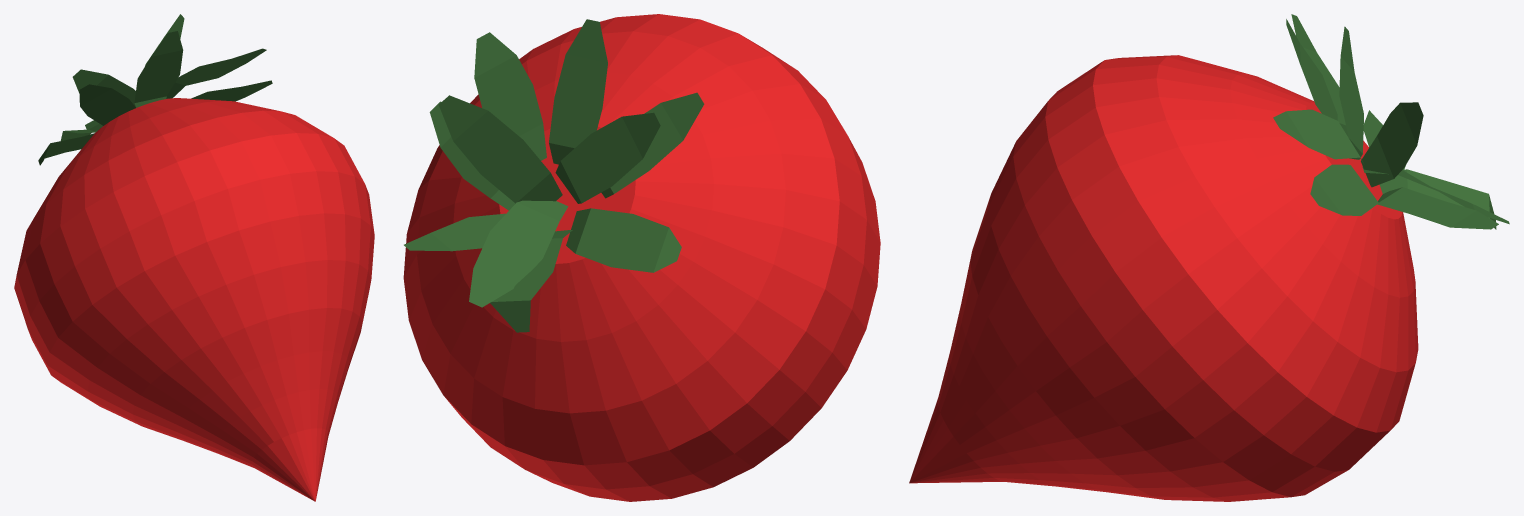
File: strawberry.fbx
3 views of the same model, side by side, from view 1: azimuth 30°, elevation 25°; view 2: azimuth 150°, elevation 25°; view 3: azimuth 270°, elevation 25° (orthographic). The views are drawn at different scales.
Visible parts, largest first — view 1: Cone; view 2: Cone; view 3: Cone.
Boxes of the visible parts, left/top/right/bottom form: Cone: left=14, top=14, right=374, bottom=501; Cone: left=403, top=14, right=880, bottom=501; Cone: left=909, top=14, right=1509, bottom=501.
Bounding box in the file's own units: 161 × 175 × 205.
